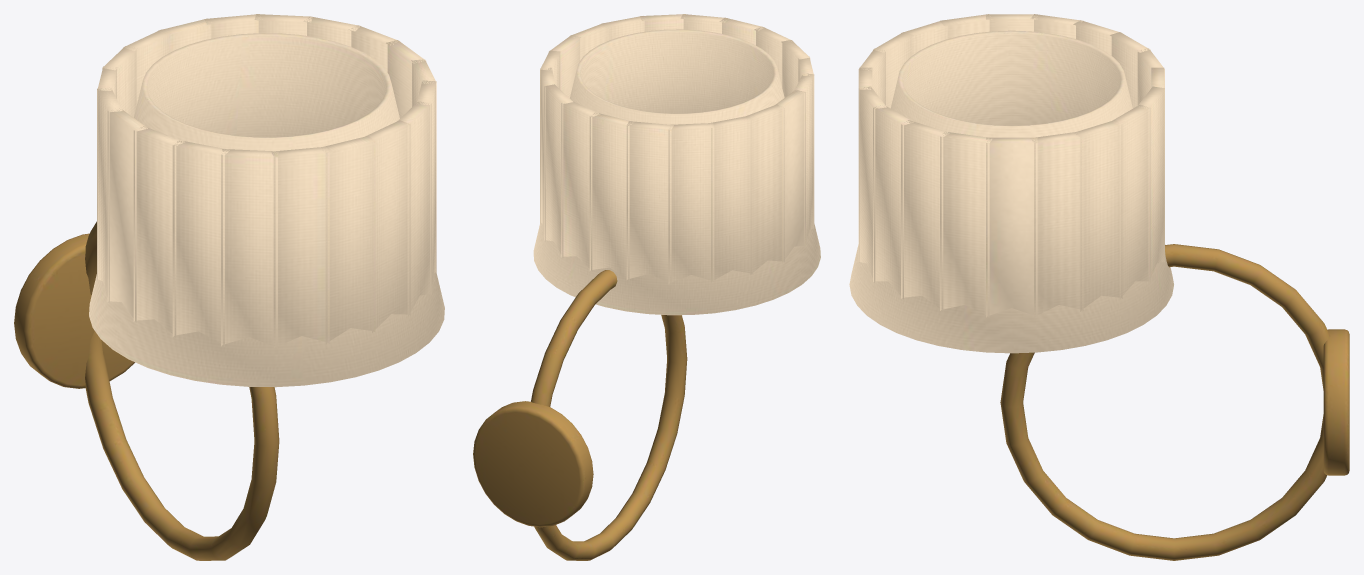
Rendered from scene-wall-sconce.glb.
3 renders of one model, left to right at view 1: azimuth 30°, elevation 25°; view 2: azimuth 150°, elevation 25°; view 3: azimuth 270°, elevation 25°, orthographic. The views are drawn at different scales.
Visible parts, largest first — view 1: scene-wall-sconce; view 2: scene-wall-sconce; view 3: scene-wall-sconce.
Boxes of the visible parts, x1=… form: scene-wall-sconce: x1=14, y1=14, x2=444, y2=560; scene-wall-sconce: x1=473, y1=14, x2=820, y2=560; scene-wall-sconce: x1=849, y1=14, x2=1349, y2=560.
Bounding box in the file's own units: 0.2141 × 0.35 × 0.3297.
Materials: 2 (2 with a texture image).
